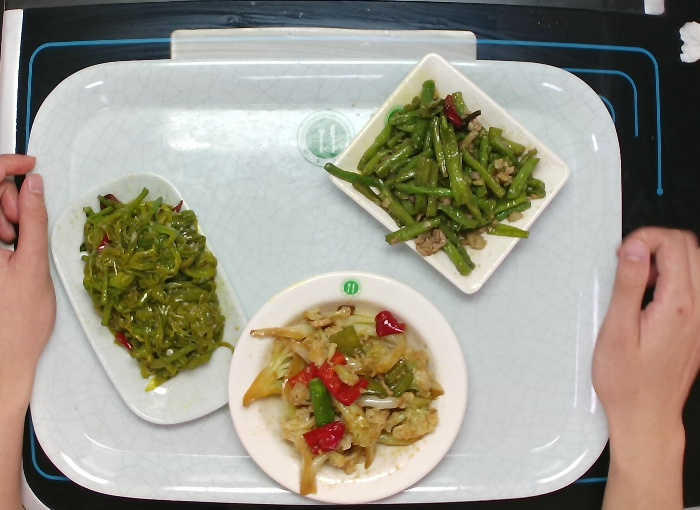WCQzf-Bai_Se_Si_Fang_Die: (325, 48, 574, 297)
WCQzf-Kuan_Bian_Yuan_Die: (222, 268, 467, 508)
WCQzf-Tuo_Yuan_Pan: (49, 169, 250, 429)
